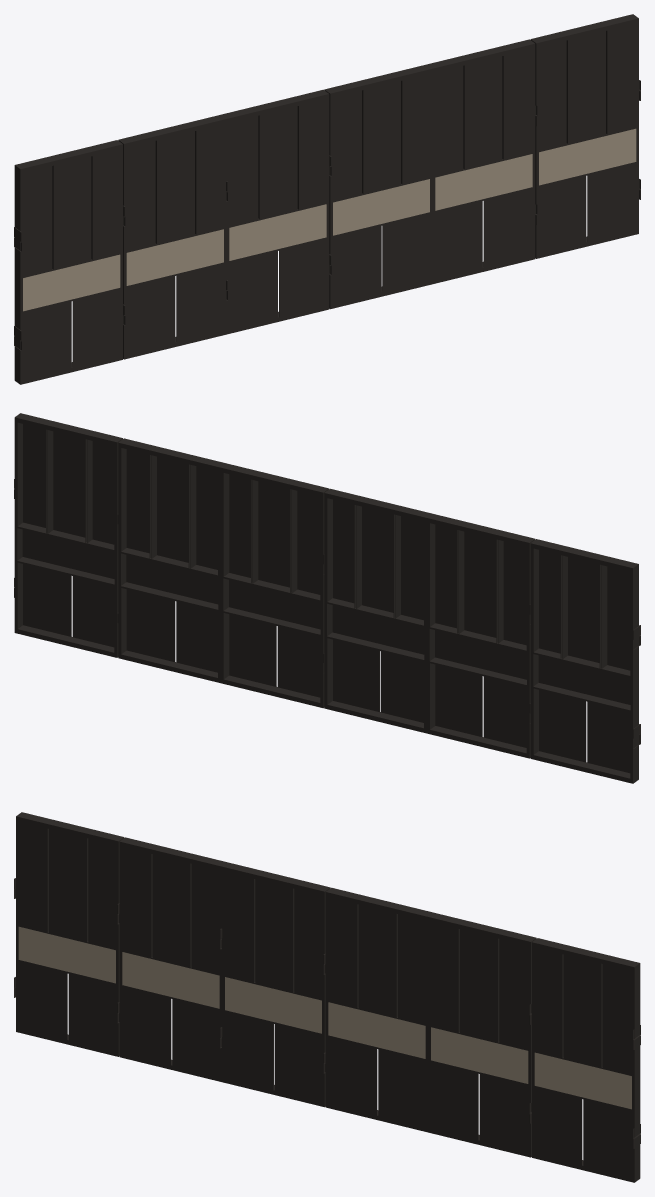
The picture shows the model from 3 angles, top to bottom: view 1: azimuth 30°, elevation 25°; view 2: azimuth 150°, elevation 25°; view 3: azimuth 330°, elevation 25°; orthographic projection.
Parts seen in each view (by area): view 1: Item_gate; view 2: Item_gate; view 3: Item_gate.
Part boxes in pixels (box(x1,y1,x2,y2)): Item_gate: box(14, 14, 640, 384); Item_gate: box(14, 413, 640, 783); Item_gate: box(14, 812, 640, 1182).
Size of the model in its own units: 4.98 by 1.65 by 0.1009.
